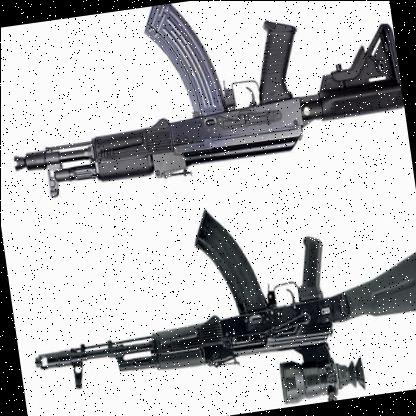rifle: (13, 174, 416, 416), (0, 0, 411, 214)
